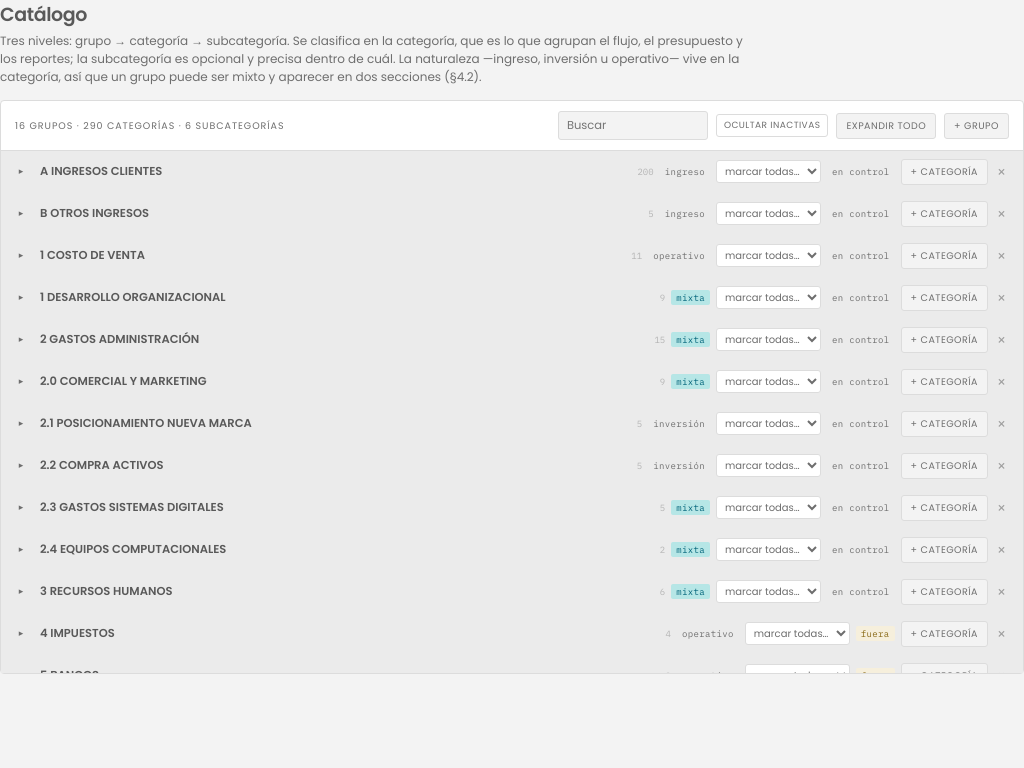
Test case: El tercer nivel › el uso abre los movimientos que hay dentro
Type "Arriendo oficina" into the field named "Buscar en el catálogo" at (633, 126), box [558,111,708,140]
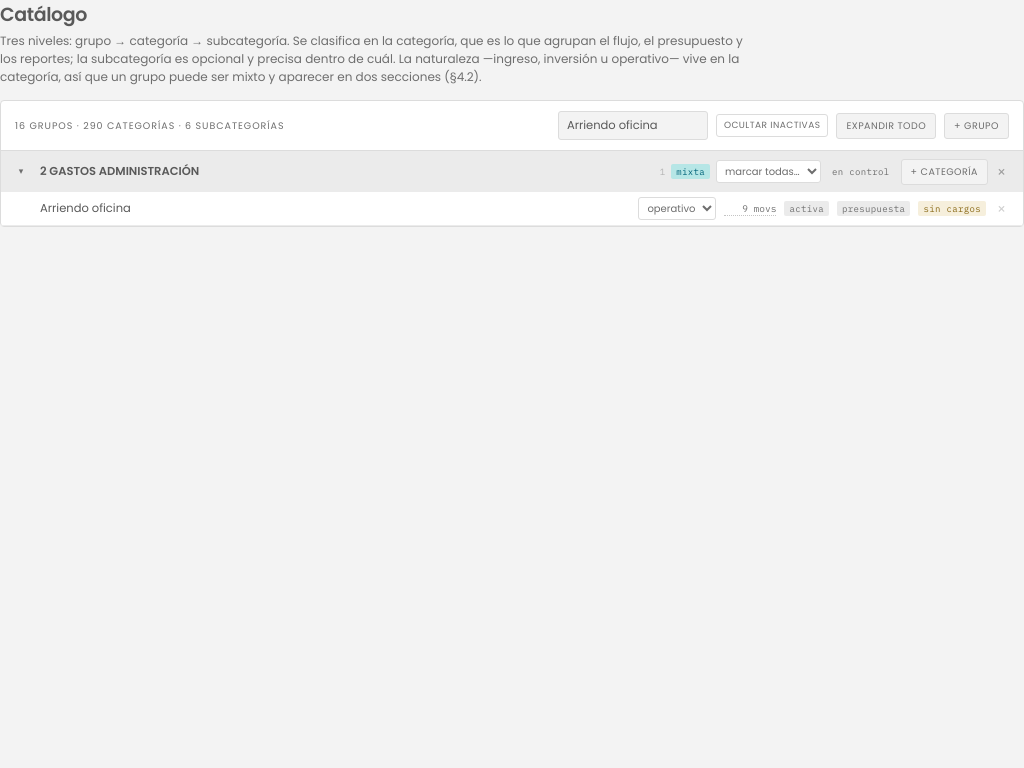
Click the button titled "Ver los movimientos clasificados acá" at (750, 208), box [724,202,776,216]
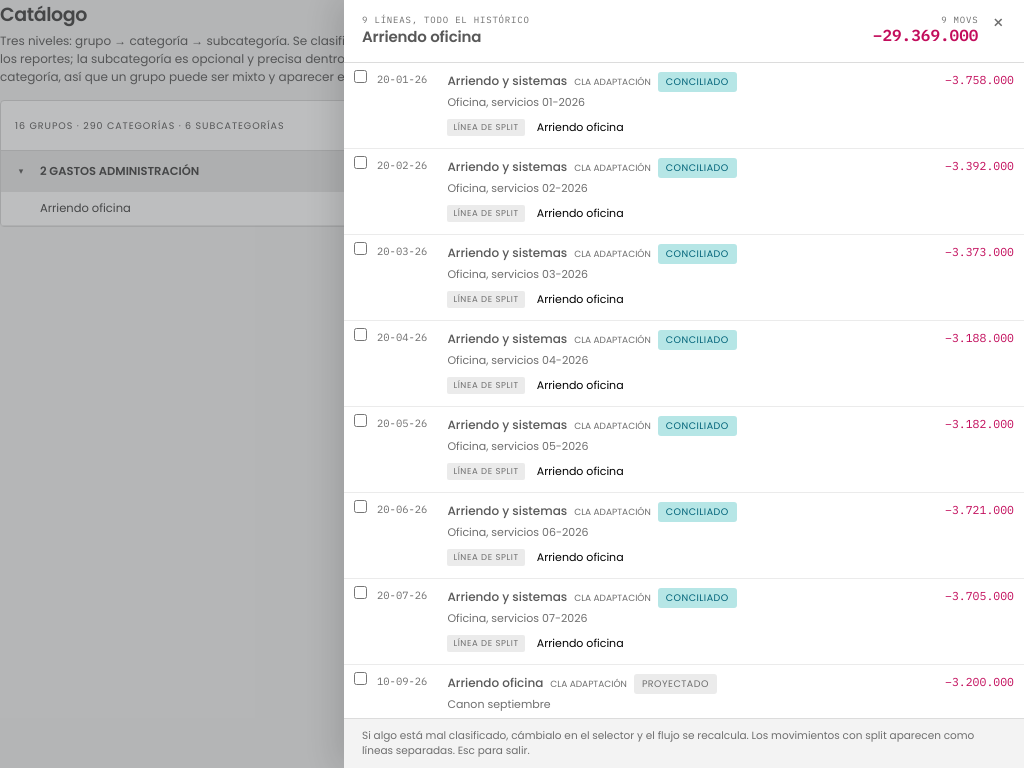
Check: the button with aria-label "Categoría" is shown, box [531,116,630,139]
